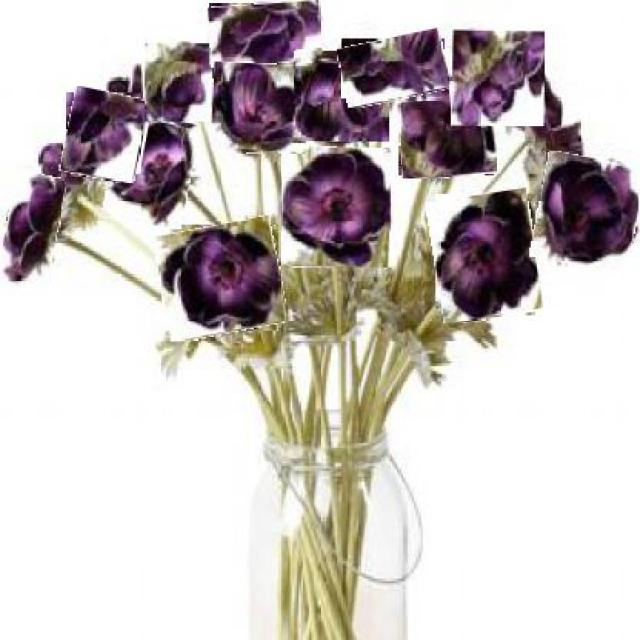Flower: (158, 220, 284, 338), (431, 192, 542, 321), (281, 148, 392, 269), (534, 154, 638, 271), (397, 75, 497, 179), (107, 115, 196, 229), (451, 30, 547, 128), (295, 51, 393, 143), (212, 63, 309, 154), (340, 33, 449, 105), (63, 89, 146, 182), (209, 2, 323, 68), (0, 172, 62, 286), (145, 43, 216, 123)
